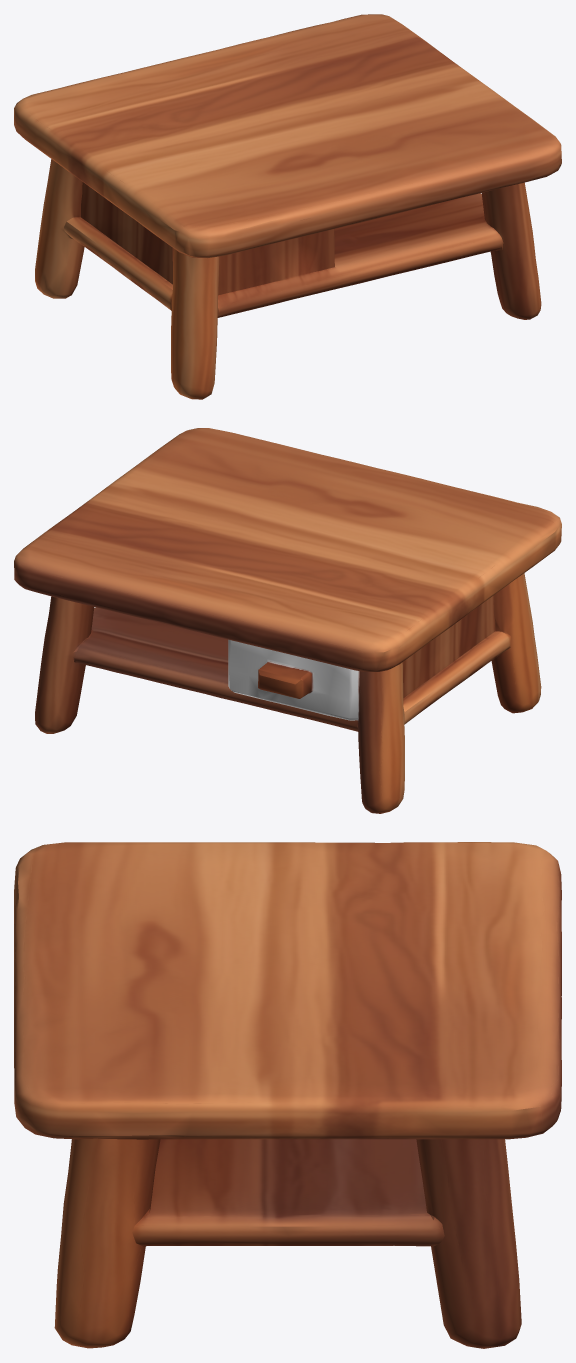
File: CoffeeTable.glb
The picture shows the model from 3 angles, top to bottom: view 1: azimuth 30°, elevation 25°; view 2: azimuth 150°, elevation 25°; view 3: azimuth 270°, elevation 25°; orthographic projection. The views are drawn at different scales.
Visible parts, largest first — view 1: geometry_0; view 2: geometry_0; view 3: geometry_0.
Part boxes in pixels (left/top/right/bottom): geometry_0: left=14, top=14, right=561, bottom=399; geometry_0: left=14, top=428, right=561, bottom=813; geometry_0: left=14, top=842, right=561, bottom=1348.
Bounding box in the file's own units: 0.6244 × 0.2852 × 0.5474.
1 material, 1 textured.
